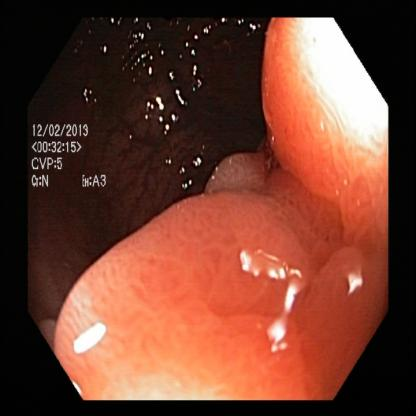Labels: (30, 112, 114, 206)
Polyps: (65, 202, 373, 372), (254, 16, 362, 204)
